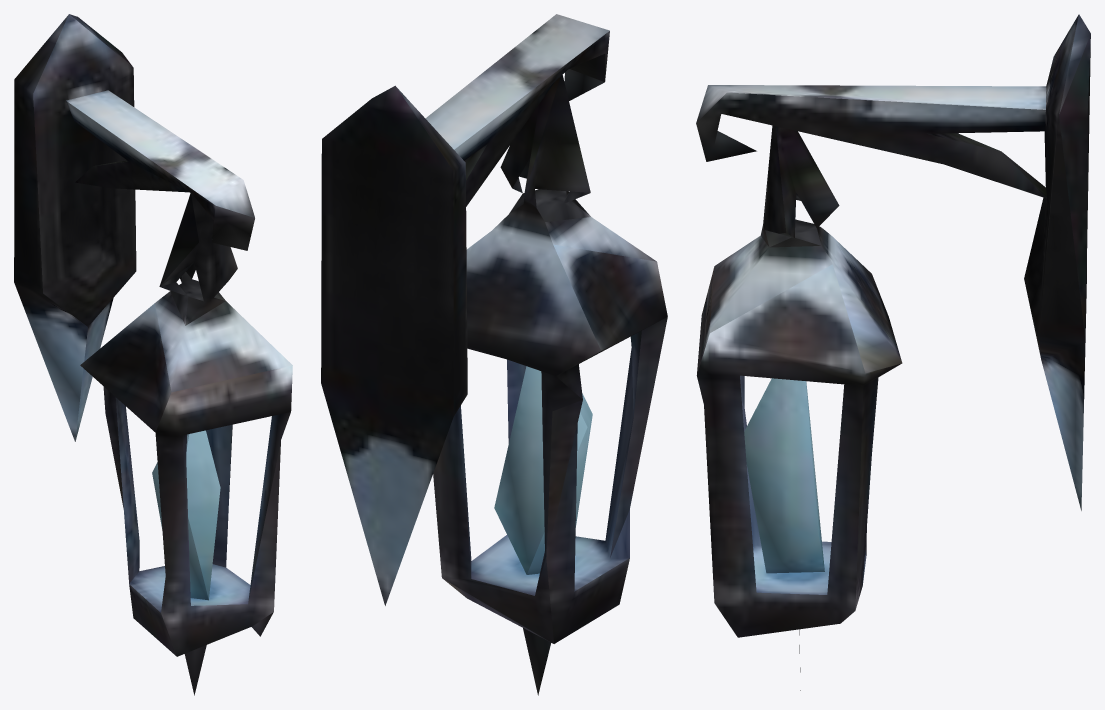
File: b_givre_ornement_mur_lo.glb
The picture shows the model from 3 angles, left to right: view 1: azimuth 30°, elevation 25°; view 2: azimuth 150°, elevation 25°; view 3: azimuth 270°, elevation 25°; orthographic projection. The views are drawn at different scales.
Visible parts, largest first — view 1: geometry_0; view 2: geometry_0; view 3: geometry_0.
Boxes of the visible parts, <box> form: geometry_0: <box>14,14,292,695</box>; geometry_0: <box>321,14,667,695</box>; geometry_0: <box>696,14,1090,690</box>.
Size of the model in its own units: 0.3033 by 1.01 by 0.5296.
Materials: 1 (1 with a texture image).
